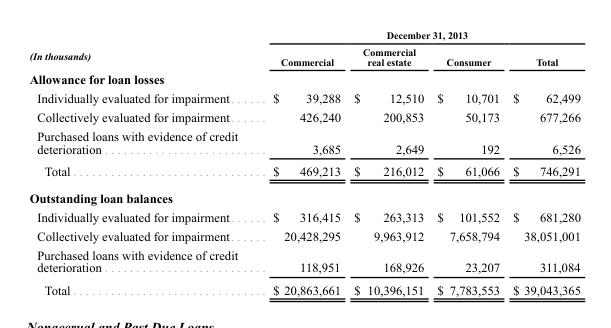table: (28, 29, 579, 296)
table column: (28, 29, 254, 296), (254, 29, 346, 296), (346, 29, 429, 296), (429, 29, 505, 296), (505, 29, 579, 296)
table column header: (28, 29, 579, 69)
table projected row header: (28, 184, 579, 207), (28, 69, 579, 88)
table row: (28, 244, 579, 278), (28, 126, 579, 159), (28, 43, 579, 69), (28, 159, 579, 184), (28, 184, 579, 207), (28, 69, 579, 88), (28, 88, 579, 107), (28, 107, 579, 126), (28, 207, 579, 226), (28, 226, 579, 244), (28, 278, 579, 296), (28, 29, 579, 43)
table spanning cell: (28, 29, 254, 69), (254, 29, 579, 43)
